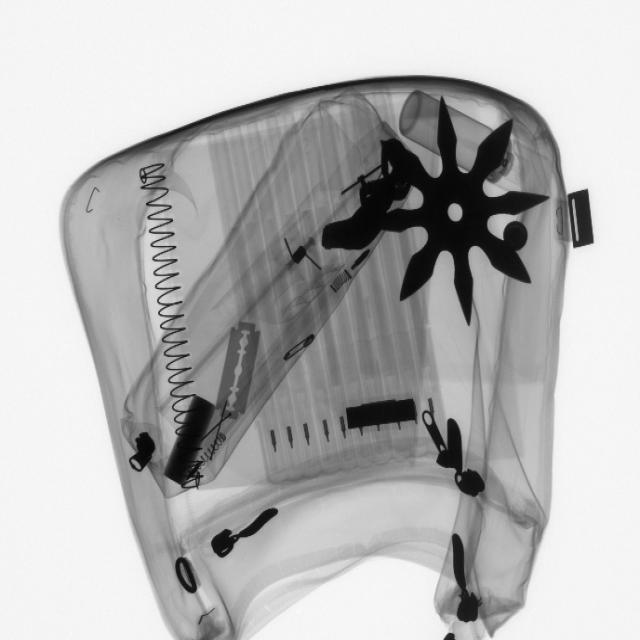BLADE: (215, 315, 267, 426)
SHURIKEN: (363, 98, 549, 329)
